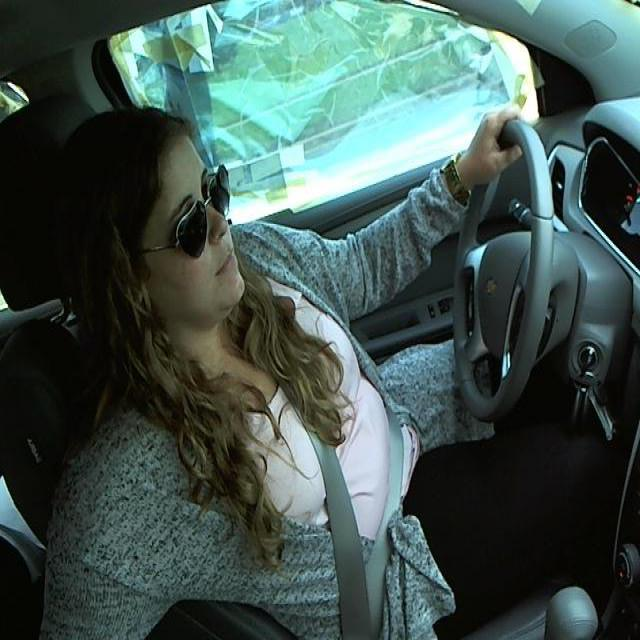seatbelt: (262, 358, 422, 630)
